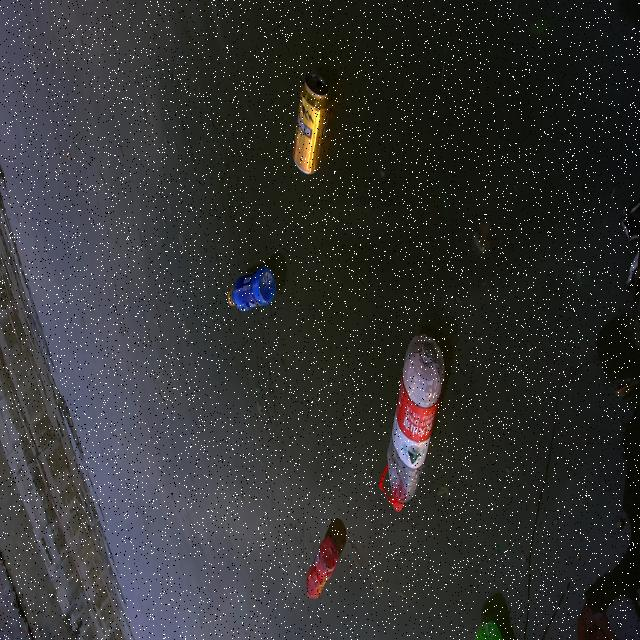Bottle: (378, 319, 446, 514), (303, 528, 340, 604), (224, 266, 276, 312)
Can: (290, 64, 331, 179)
